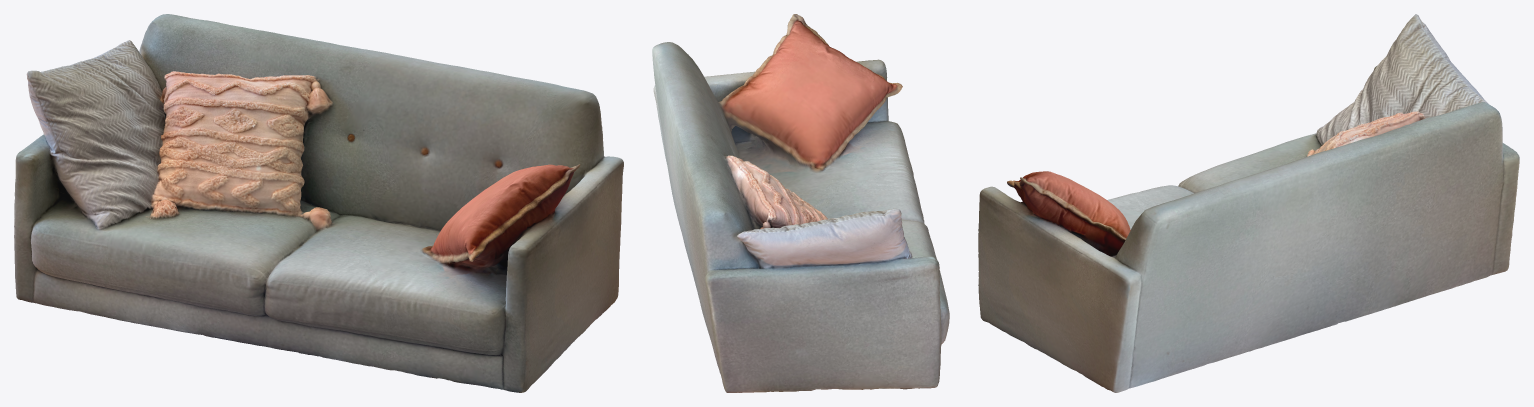
The model's file is couch.glb.
3 renders of one model, left to right at view 1: azimuth 30°, elevation 25°; view 2: azimuth 150°, elevation 25°; view 3: azimuth 270°, elevation 25°, orthographic. The views are drawn at different scales.
Visible parts, largest first — view 1: Object_2; view 2: Object_2; view 3: Object_2.
Part boxes in pixels (box(x1,y1,x2,y2)): Object_2: box(14, 14, 623, 392); Object_2: box(652, 14, 949, 392); Object_2: box(978, 14, 1519, 392).
Size of the model in its own units: 1.19 by 0.5103 by 1.31.
Materials: 1 (1 with a texture image).
